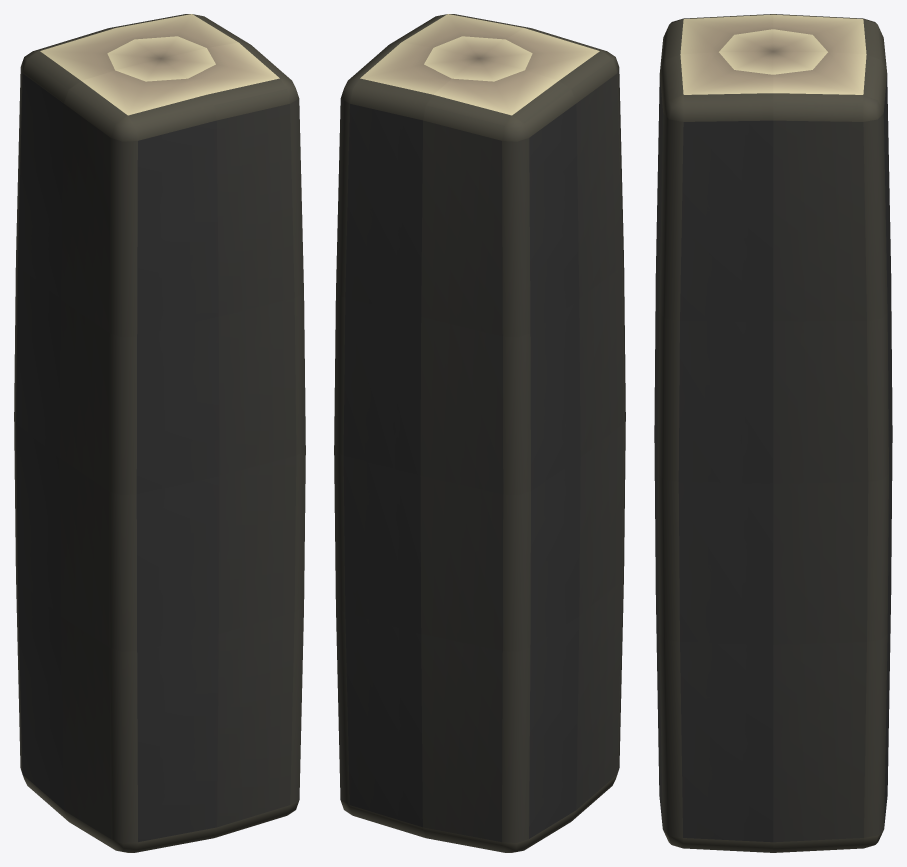
The model's file is ColdWood_BranchSmall_Straight.fbx.
The picture shows the model from 3 angles, left to right: view 1: azimuth 30°, elevation 25°; view 2: azimuth 150°, elevation 25°; view 3: azimuth 270°, elevation 25°; orthographic projection. The views are drawn at different scales.
Parts seen in each view (by area): view 1: ColdWood_BranchSmall_Straight_LOD0; view 2: ColdWood_BranchSmall_Straight_LOD0; view 3: ColdWood_BranchSmall_Straight_LOD0.
Part boxes in pixels (x1,y1,x2,y2): ColdWood_BranchSmall_Straight_LOD0: (14, 14, 305, 852); ColdWood_BranchSmall_Straight_LOD0: (334, 14, 625, 852); ColdWood_BranchSmall_Straight_LOD0: (654, 14, 892, 852).
Size of what is drawn, in the model's own units: 0.2913 by 1.04 by 0.2929.
